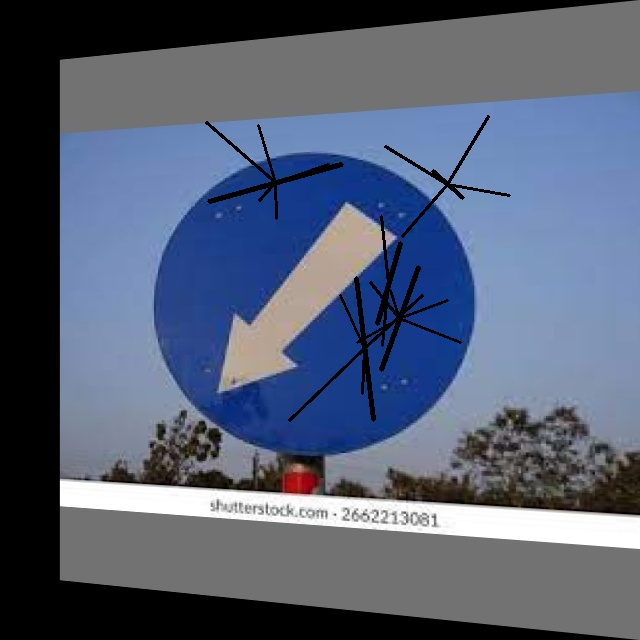Compulsory_Keep_Left: (156, 147, 465, 449)
